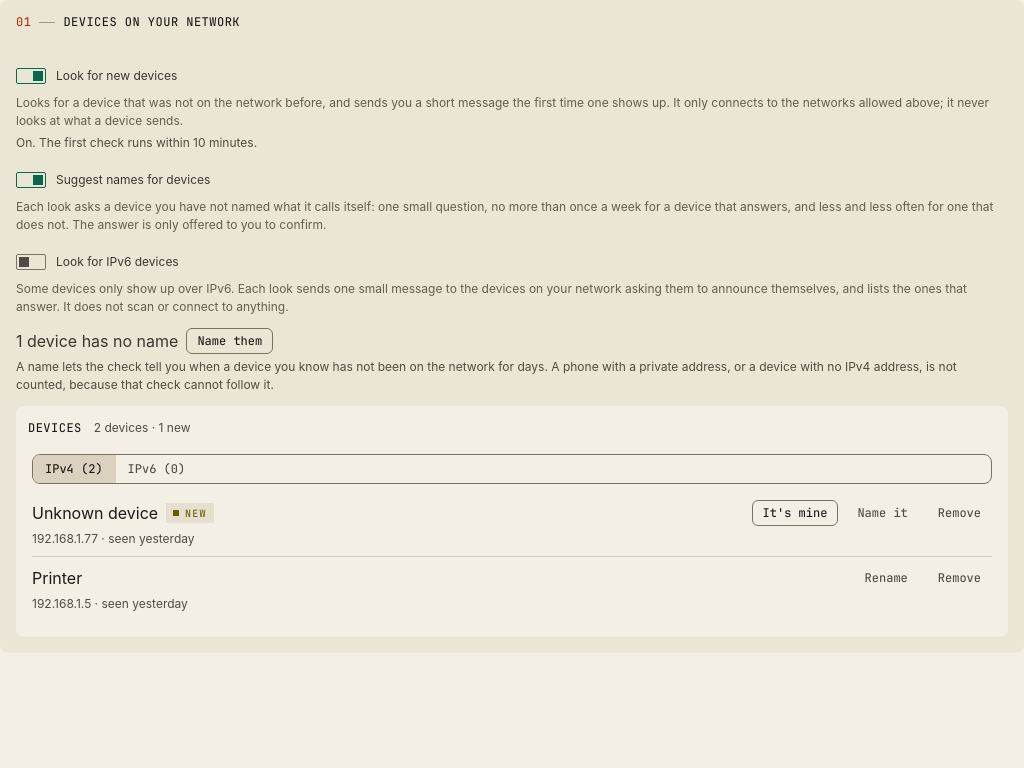
Test: DevicesCard › names a device, which approves it
Click the button "Name it" at (883, 513), box [846,500,919,526]
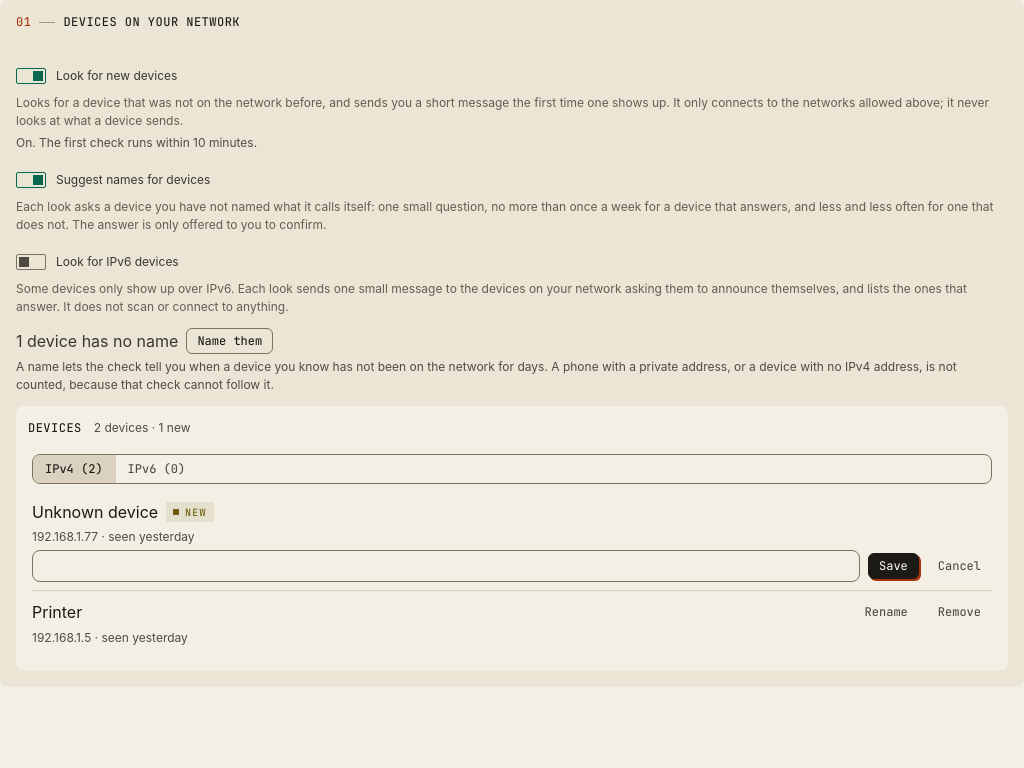
Type "TV" into the field named "Device name" at (446, 566), box [32,550,860,582]
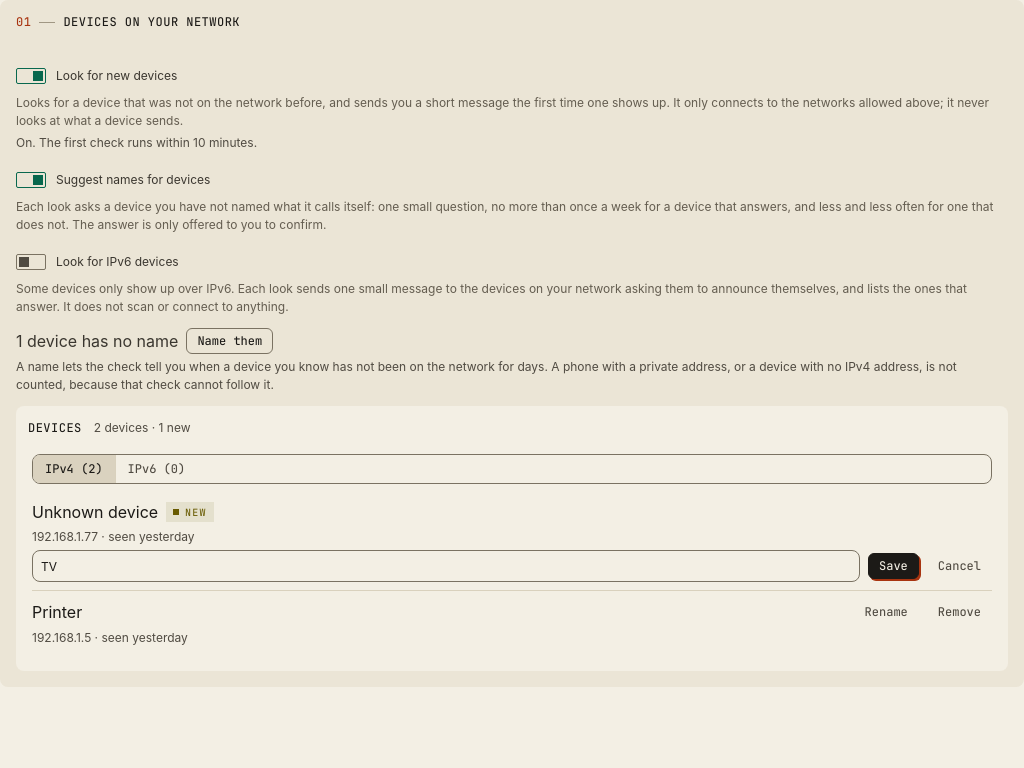
Submit the form, box [32,550,992,582]
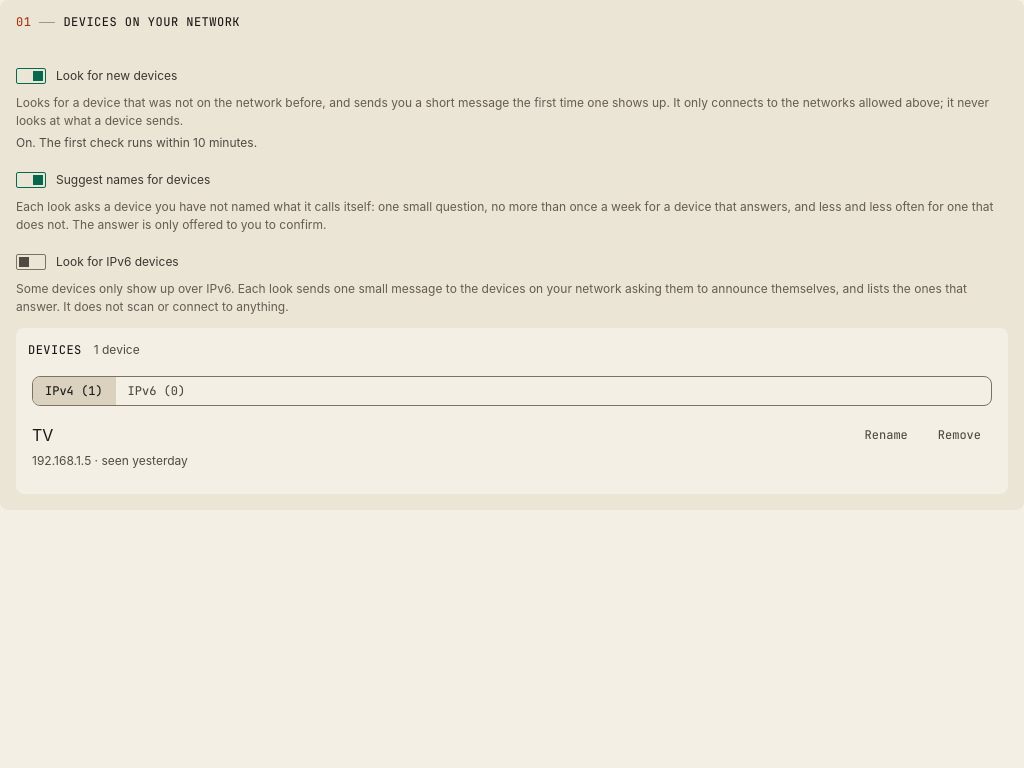
Expected: the text "TV" is shown, [32,423,53,447]
